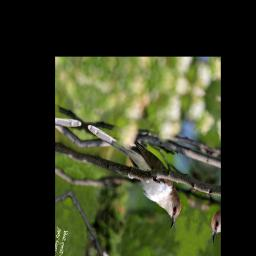Cuckoo: (72, 123, 192, 232)
